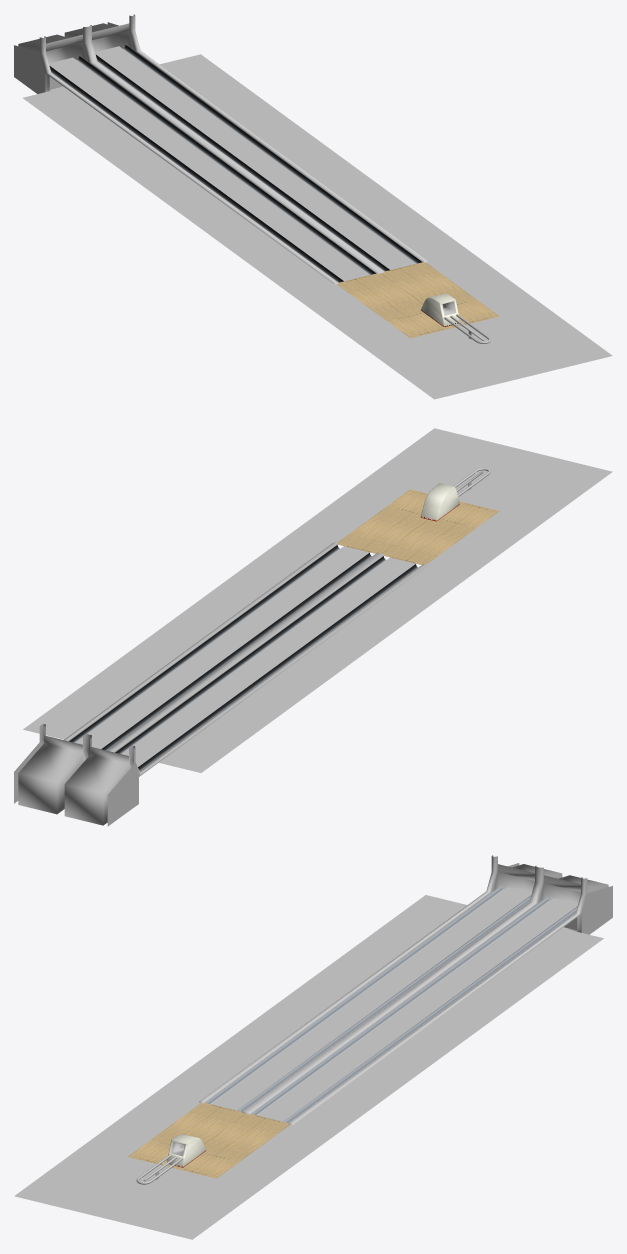
The model's file is bowling_lane.obj.
3 views of the same model, one above another, from view 1: azimuth 30°, elevation 25°; view 2: azimuth 150°, elevation 25°; view 3: azimuth 330°, elevation 25° (orthographic).
Parts seen in each view (by area): view 1: Venue01.lwo; view 2: Venue01.lwo; view 3: Venue01.lwo.
Part boxes in pixels (left/top/right/bottom): Venue01.lwo: left=14, top=14, right=612, bottom=399; Venue01.lwo: left=14, top=428, right=612, bottom=826; Venue01.lwo: left=14, top=855, right=612, bottom=1239.
Size of the model in its own units: 7.42 by 2.39 by 33.33.
